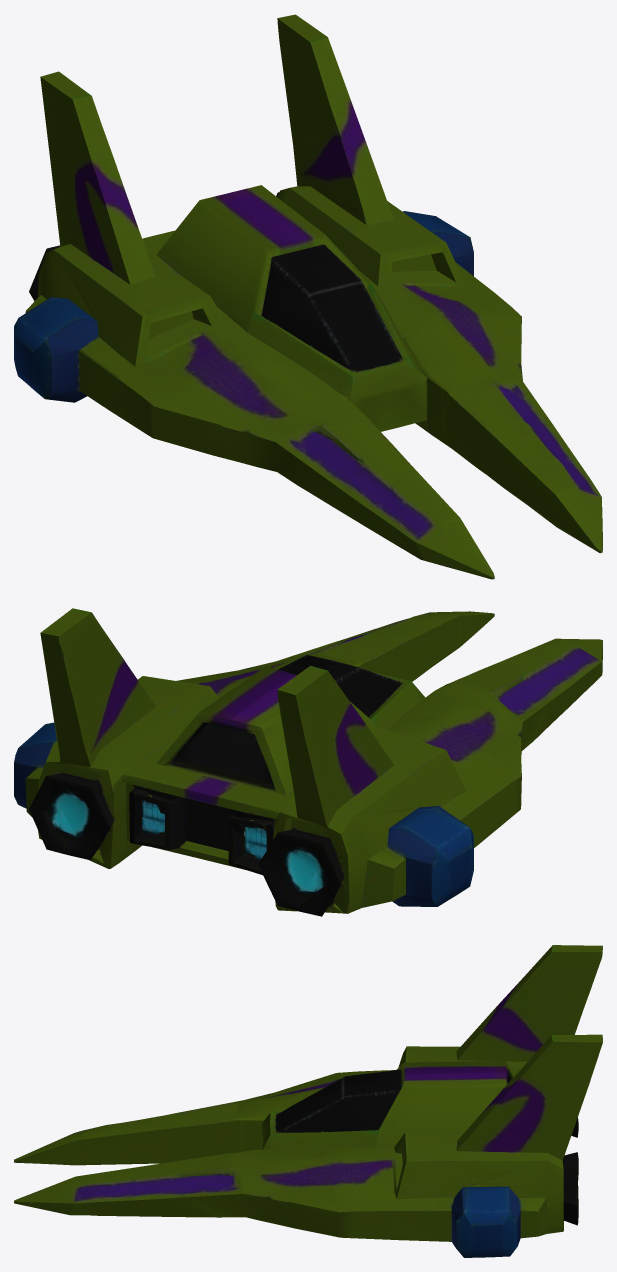
The model's file is nave_08.obj.
3 renders of one model, top to bottom at view 1: azimuth 30°, elevation 25°; view 2: azimuth 150°, elevation 25°; view 3: azimuth 270°, elevation 25°, orthographic. The views are drawn at different scales.
Visible parts, largest first — view 1: geometry_0; view 2: geometry_0; view 3: geometry_0.
Boxes of the visible parts, bbox=[...] form: geometry_0: bbox=[14, 14, 602, 579]; geometry_0: bbox=[14, 608, 602, 916]; geometry_0: bbox=[14, 945, 602, 1257].
Bounding box in the file's own units: 4.68 × 2.51 × 7.
4 materials, 1 textured.
